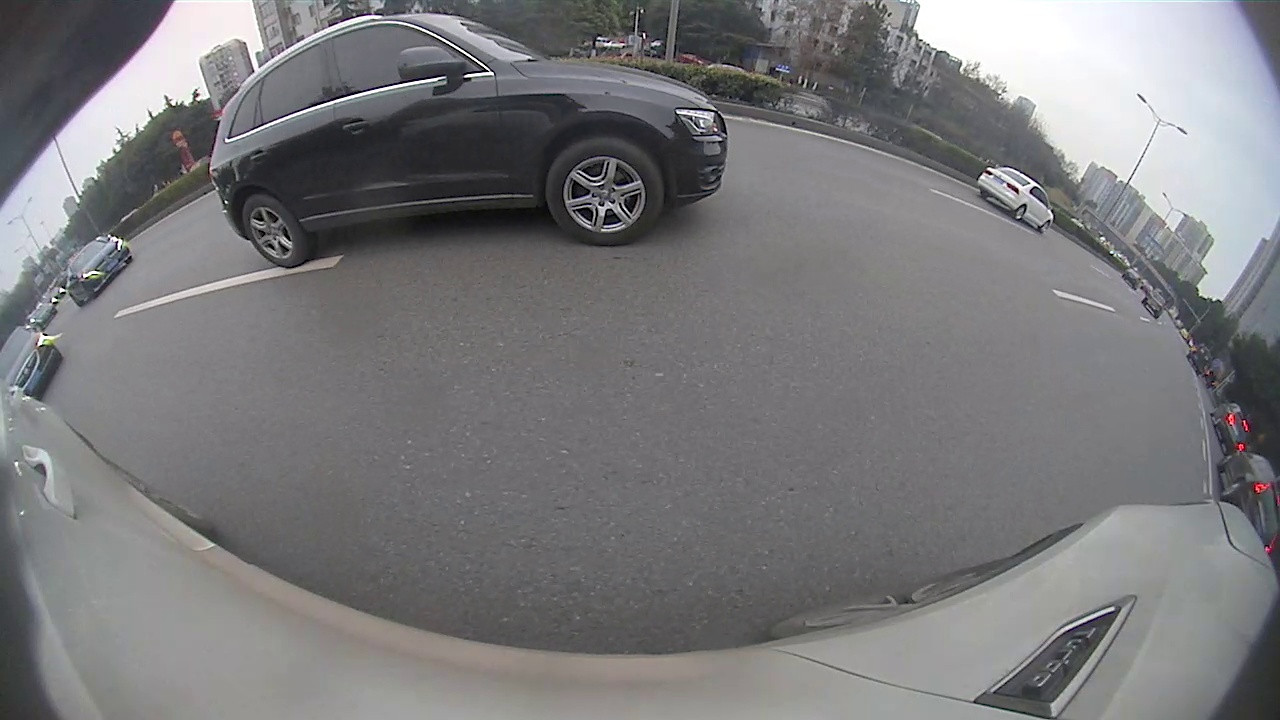car: (209, 14, 725, 268), (1218, 450, 1278, 554), (65, 234, 132, 307), (979, 167, 1053, 232), (2, 326, 61, 399), (1210, 402, 1251, 453)
front: (541, 132, 666, 251), (1038, 221, 1051, 236)
rear: (240, 189, 317, 268), (1012, 205, 1028, 222)
